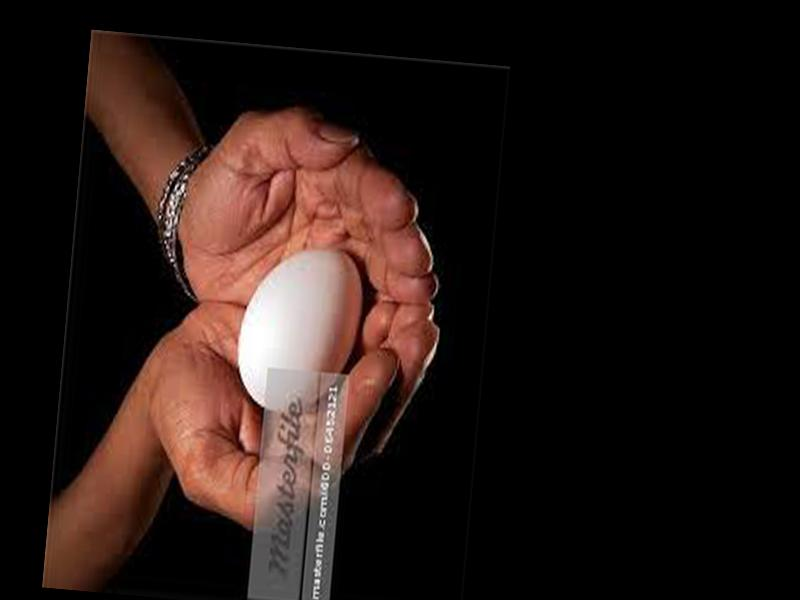Eggs: (232, 240, 368, 417)
